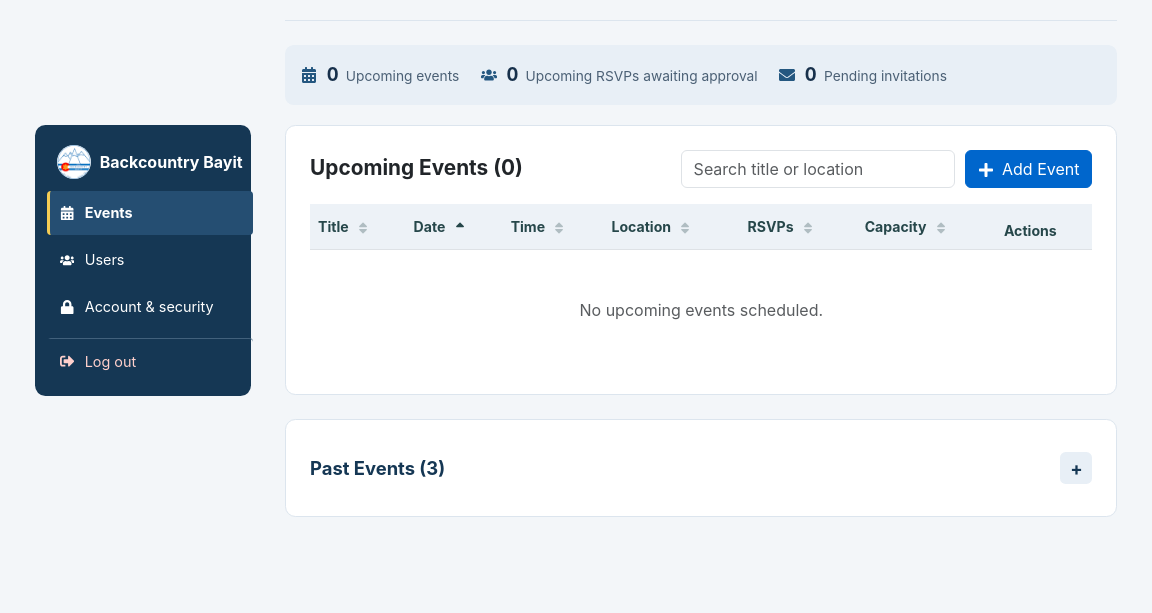
same-day archive events sort by actual time descending
Click the button "Past Events (3) +". click: (368, 468)
box: [310,444,1092,492]
(page scrolled)
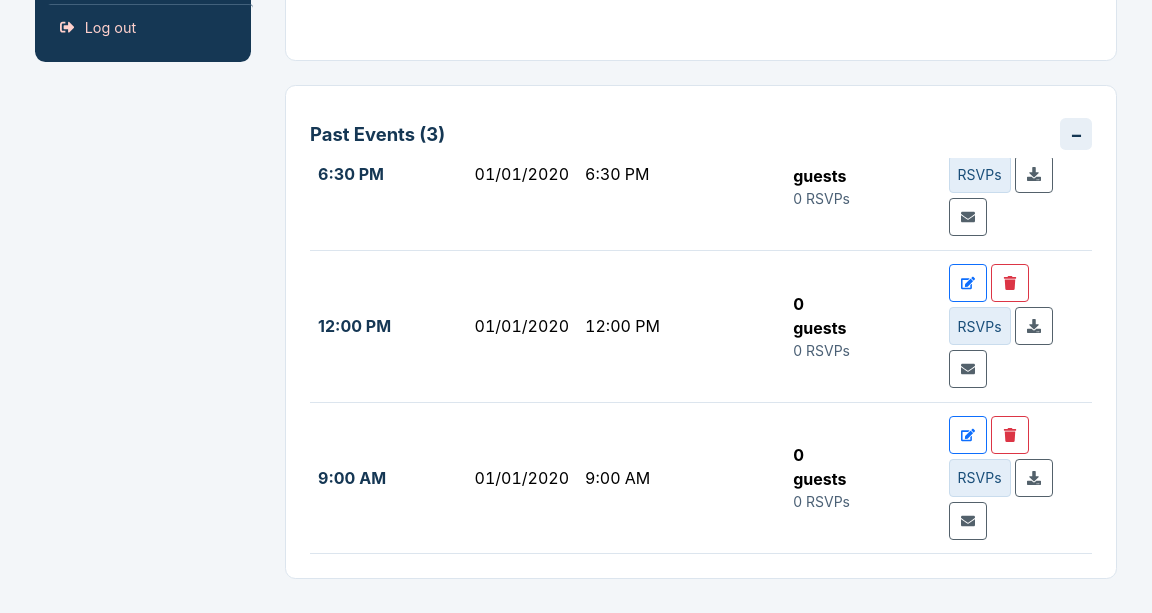
Check: the 1st cell "6:30 PM" is shown, box [310,158,467,250]
Check: the 1st cell "12:00 PM" is shown, box [310,250,467,402]
Check: the 1st cell "9:00 AM" is shown, box [310,402,467,554]
